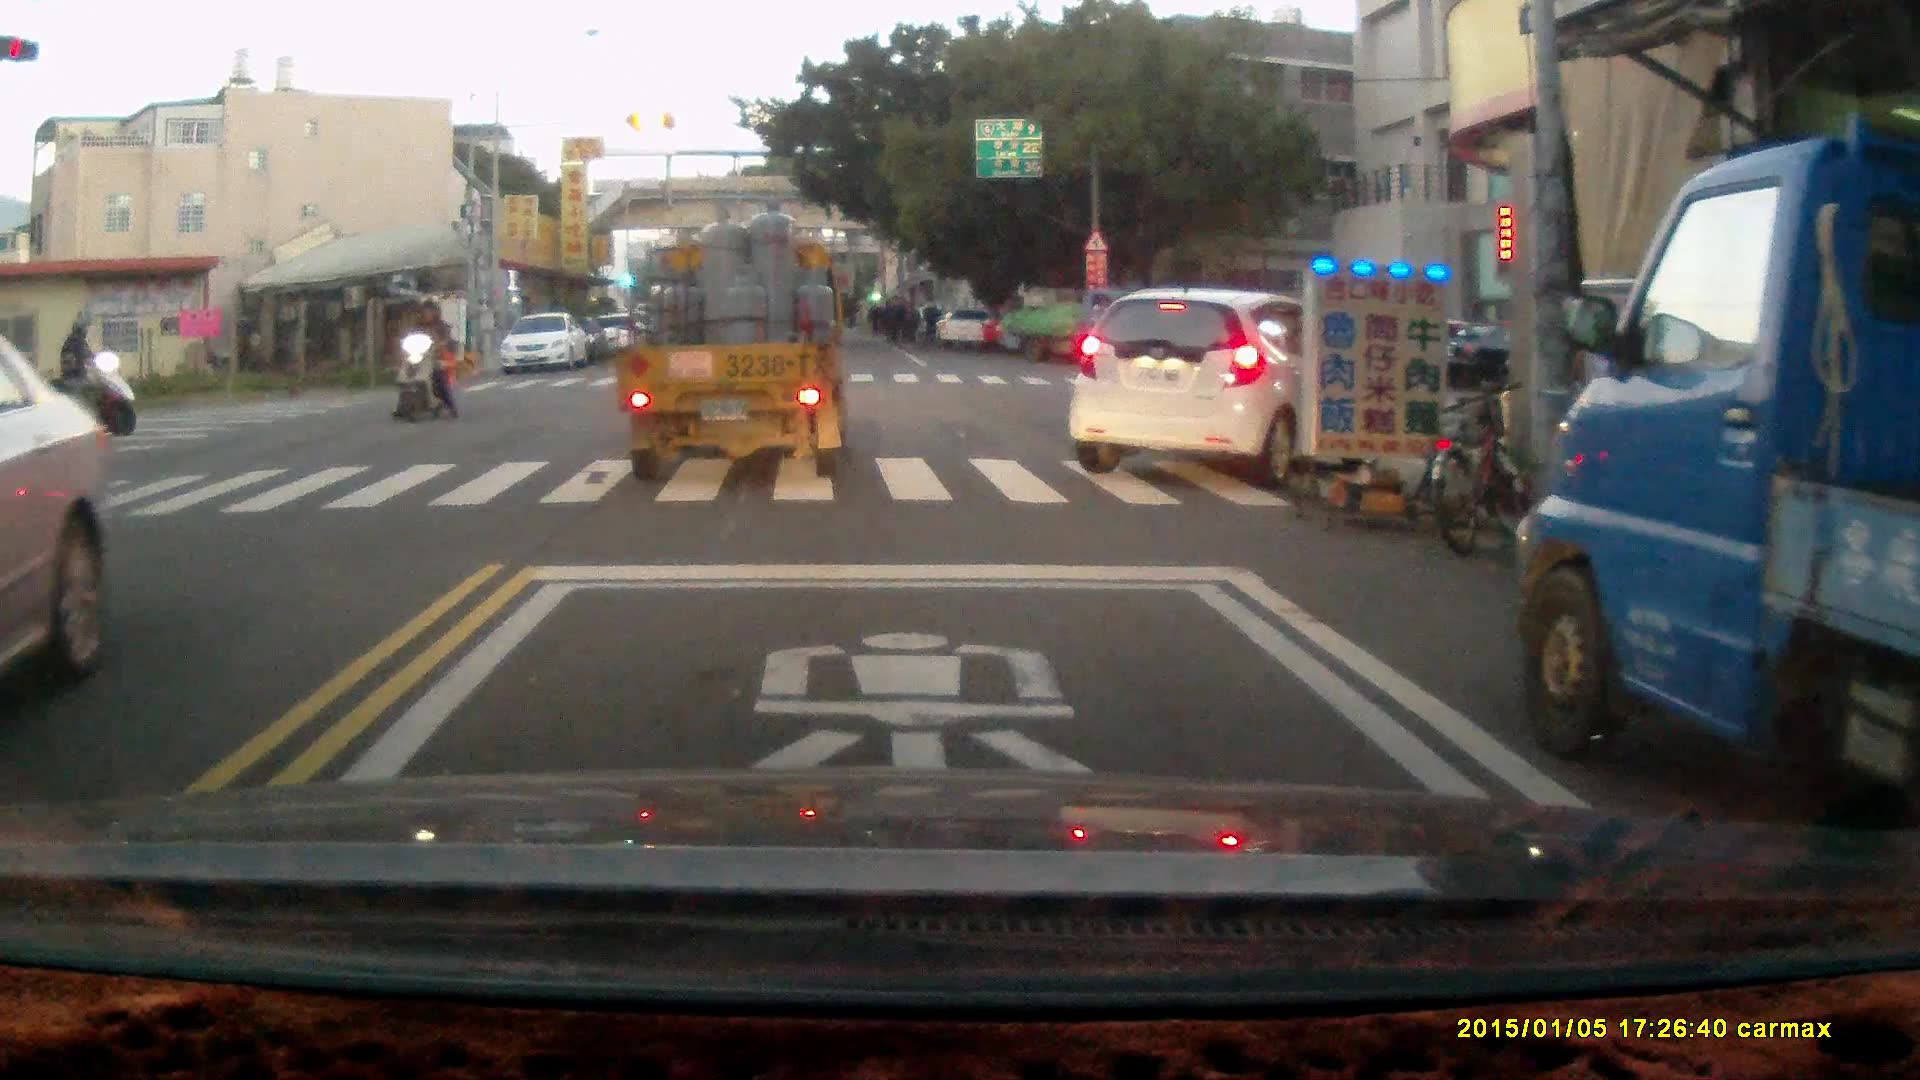rider: (40, 313, 134, 434), (392, 298, 458, 425)
vehicle: (1516, 132, 1920, 798), (613, 218, 851, 486), (1067, 289, 1355, 469), (1, 336, 119, 713), (1002, 284, 1169, 367), (504, 312, 588, 379)
